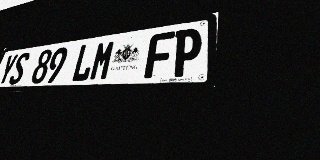8: (29, 49, 54, 84)
9: (44, 46, 69, 83)
F: (144, 31, 175, 78)
L: (70, 42, 98, 82)
M: (88, 40, 117, 81)
P: (170, 27, 203, 77)
S: (7, 52, 31, 85)
Y: (0, 54, 19, 85)
